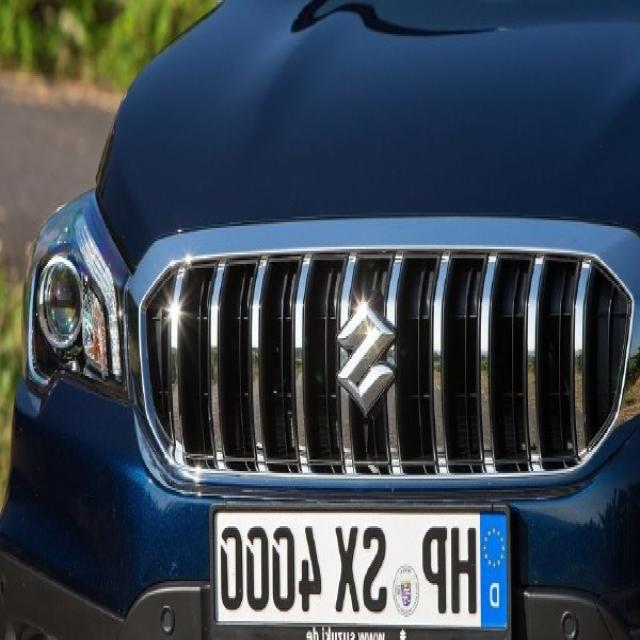number-plate: (212, 494, 510, 640)
